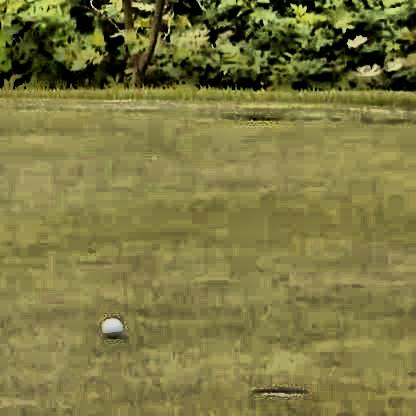golfball: (97, 314, 120, 337)
